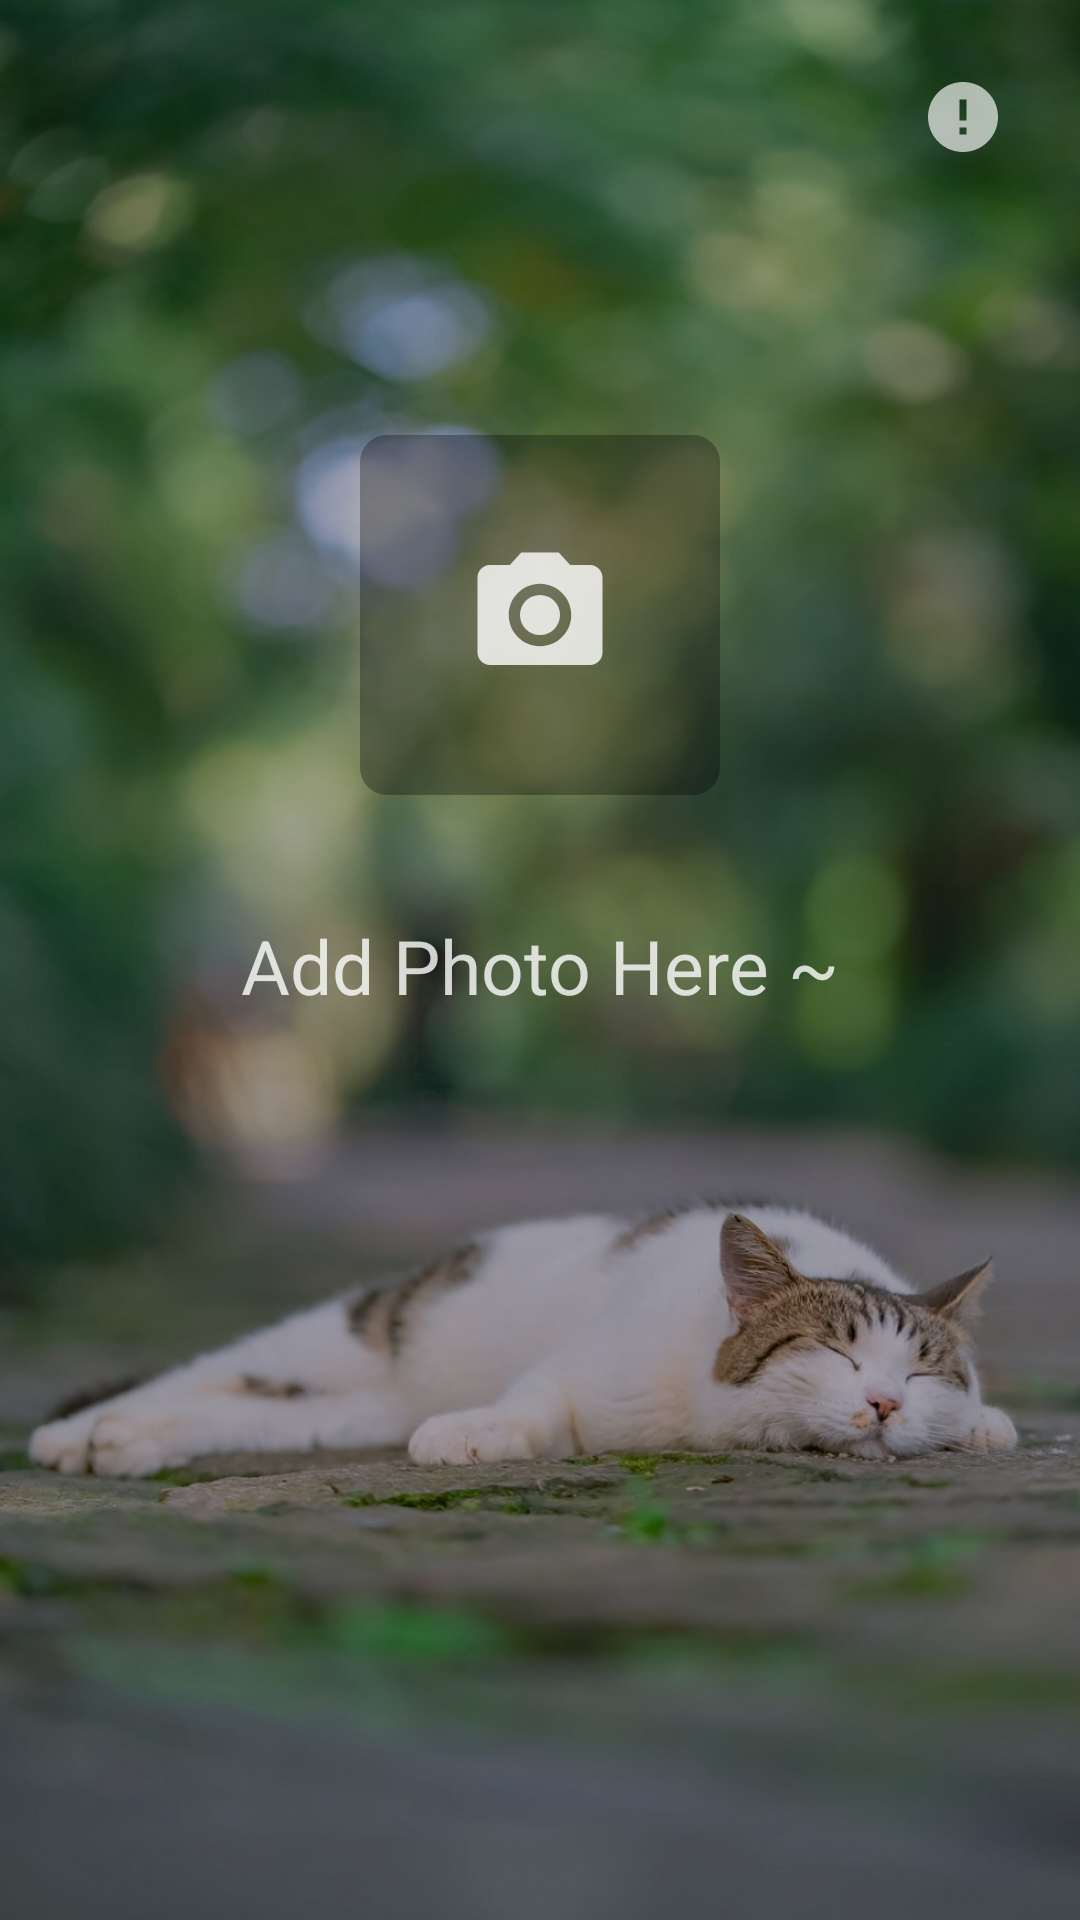

Icons on this 1080px×1920px Android screen, each with the point to tap as [x,y]:
photo camera: [540,615]
